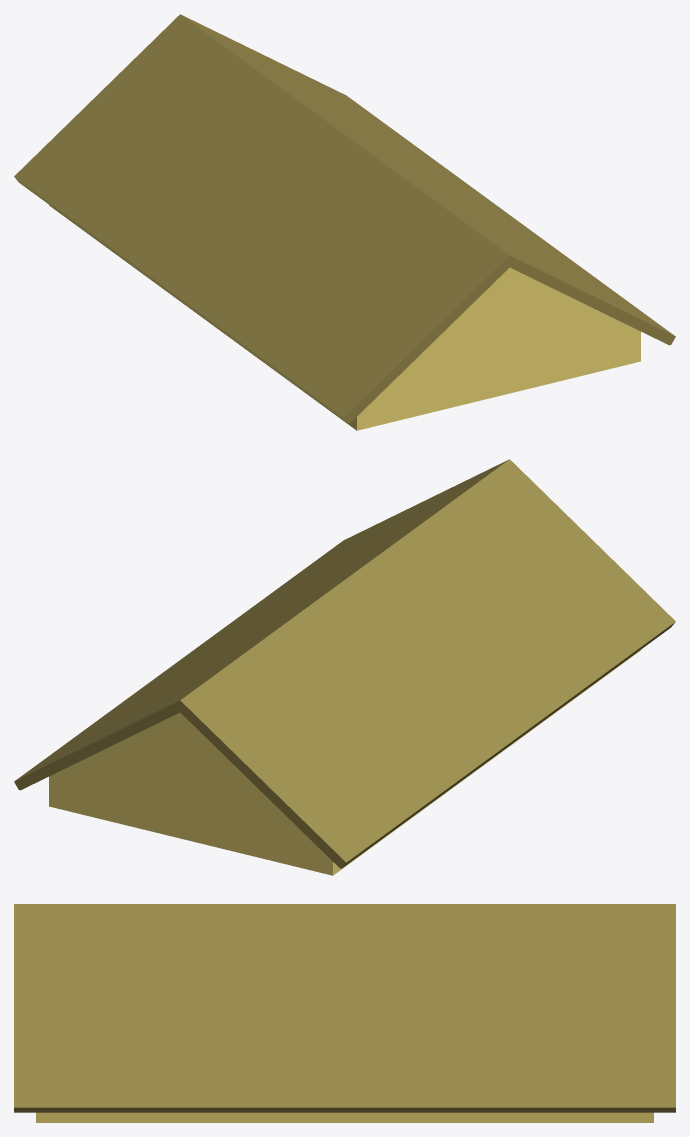
Rendered from result.glb.
3 views of the same model, one above another, from view 1: azimuth 30°, elevation 25°; view 2: azimuth 150°, elevation 25°; view 3: azimuth 270°, elevation 25° (orthographic).
Parts seen in each view (by area): view 1: 9886cc46-10fa-4fa1-99e8-1dfaa919136e__undefined (×2), 3efeebdd-c5cf-4826-b018-395adfa39f33__undefined; view 2: 9886cc46-10fa-4fa1-99e8-1dfaa919136e__undefined (×2), 3efeebdd-c5cf-4826-b018-395adfa39f33__undefined; view 3: 9886cc46-10fa-4fa1-99e8-1dfaa919136e__undefined, 3efeebdd-c5cf-4826-b018-395adfa39f33__undefined.
Boxes of the visible parts, bbox=[...] form: 9886cc46-10fa-4fa1-99e8-1dfaa919136e__undefined (×2): bbox=[14, 14, 675, 423]; 3efeebdd-c5cf-4826-b018-395adfa39f33__undefined: bbox=[49, 205, 640, 430]; 9886cc46-10fa-4fa1-99e8-1dfaa919136e__undefined (×2): bbox=[14, 459, 675, 868]; 3efeebdd-c5cf-4826-b018-395adfa39f33__undefined: bbox=[49, 650, 640, 875]; 9886cc46-10fa-4fa1-99e8-1dfaa919136e__undefined: bbox=[14, 904, 675, 1112]; 3efeebdd-c5cf-4826-b018-395adfa39f33__undefined: bbox=[36, 1112, 653, 1122].
Size of the model in its own units: 882 by 377 by 1514.
